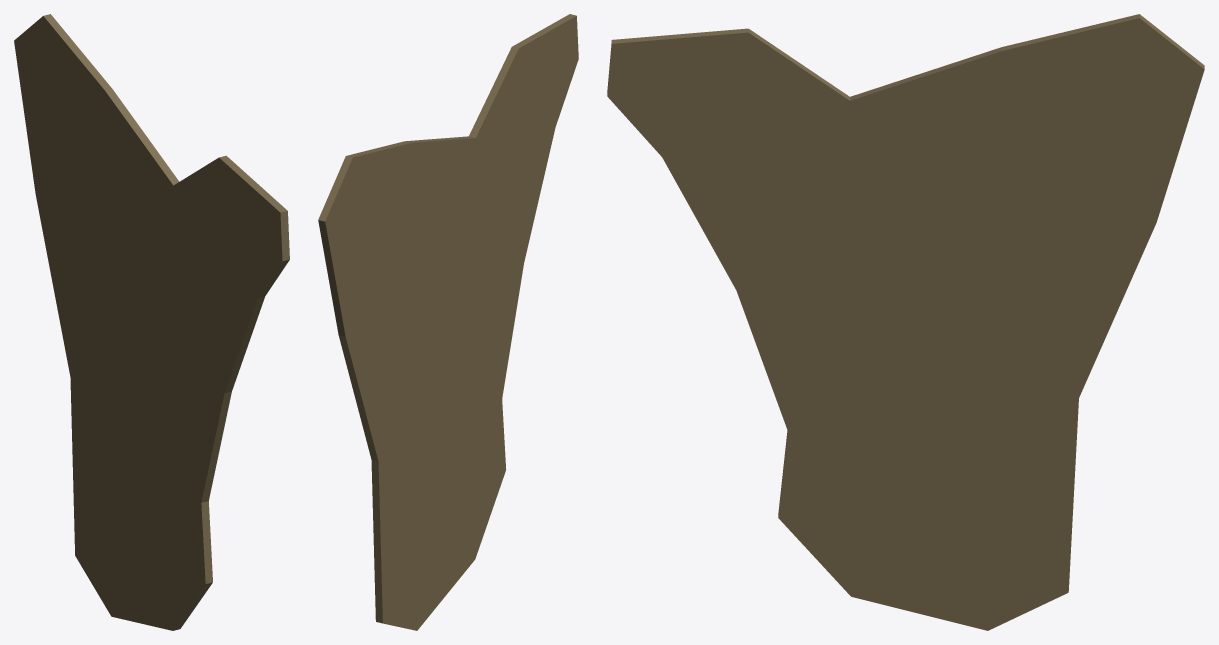
Rendered from 3demayo.fbx.
The picture shows the model from 3 angles, left to right: view 1: azimuth 30°, elevation 25°; view 2: azimuth 150°, elevation 25°; view 3: azimuth 270°, elevation 25°; orthographic projection. The views are drawn at different scales.
Visible parts, largest first — view 1: Plane; view 2: Plane; view 3: Plane.
Part boxes in pixels (x1=…): Plane: x1=14, y1=14, x2=289, y2=630; Plane: x1=318, y1=14, x2=578, y2=630; Plane: x1=607, y1=14, x2=1204, y2=630.
Size of the model in its own units: 68.72 by 4856 by 4290.
